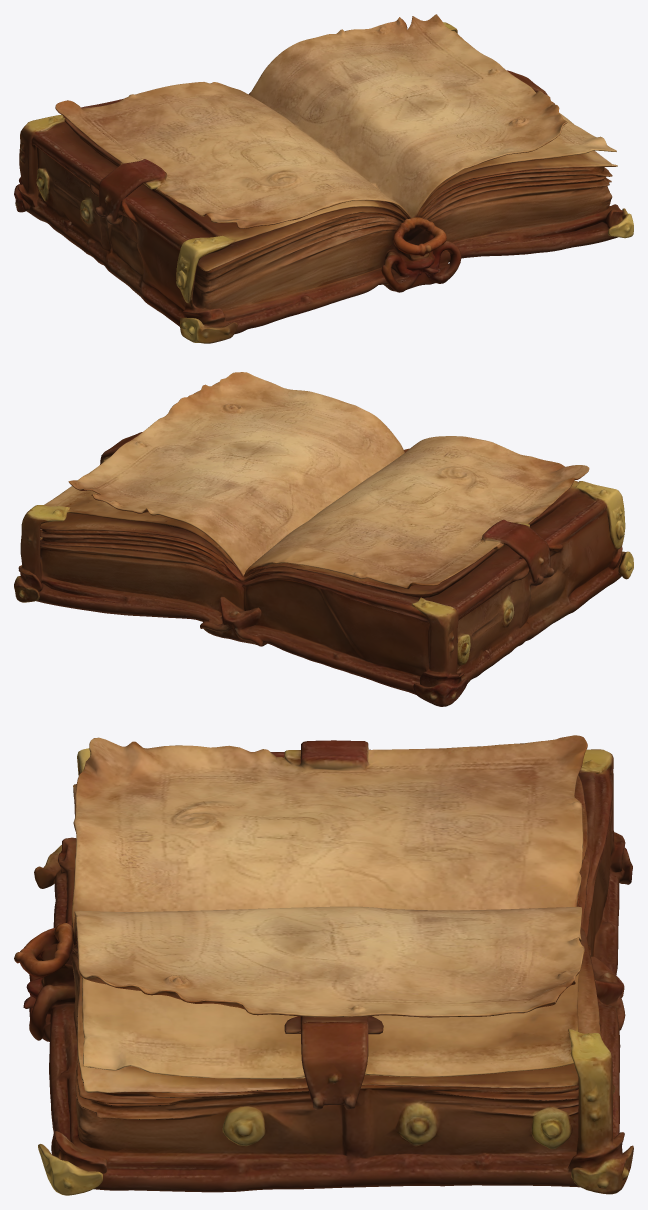
Rendered from ancient spellbook 3d model.glb.
3 views of the same model, one above another, from view 1: azimuth 30°, elevation 25°; view 2: azimuth 150°, elevation 25°; view 3: azimuth 270°, elevation 25° (orthographic). The views are drawn at different scales.
Visible parts, largest first — view 1: tripo_node_75c7a098-be03-483b-8b7c-460a90b1a8e3; view 2: tripo_node_75c7a098-be03-483b-8b7c-460a90b1a8e3; view 3: tripo_node_75c7a098-be03-483b-8b7c-460a90b1a8e3.
Boxes of the visible parts, x1,y1,x2,y2 form: tripo_node_75c7a098-be03-483b-8b7c-460a90b1a8e3: [14, 14, 633, 343]; tripo_node_75c7a098-be03-483b-8b7c-460a90b1a8e3: [14, 372, 633, 706]; tripo_node_75c7a098-be03-483b-8b7c-460a90b1a8e3: [14, 735, 633, 1195].
Bounding box in the file's own units: 0.9808 × 0.2539 × 0.7747.
1 material, 1 textured.
